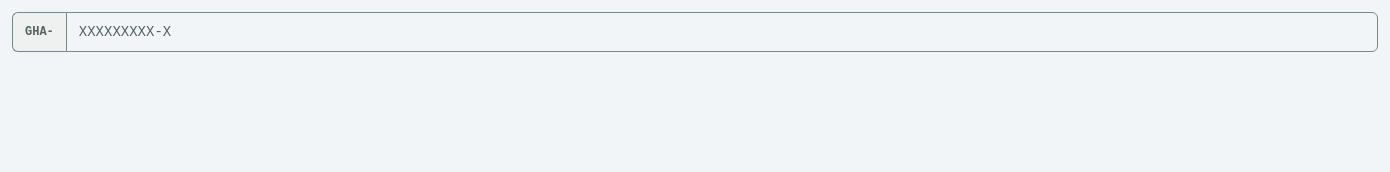
Test case: GhanaCardInput – inline error after blur › strips non-digit characters and caps at 10 digits
Type "abc123-def4567890extra" into the field at {"x": 722, "y": 32}, box x1=66 y1=12 x2=1378 y2=52
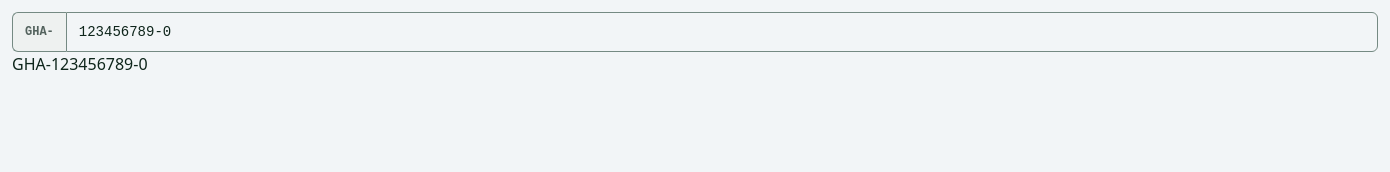
Result: the text with test id "raw" reads "GHA-123456789-0" at x1=12 y1=53 x2=148 y2=75
